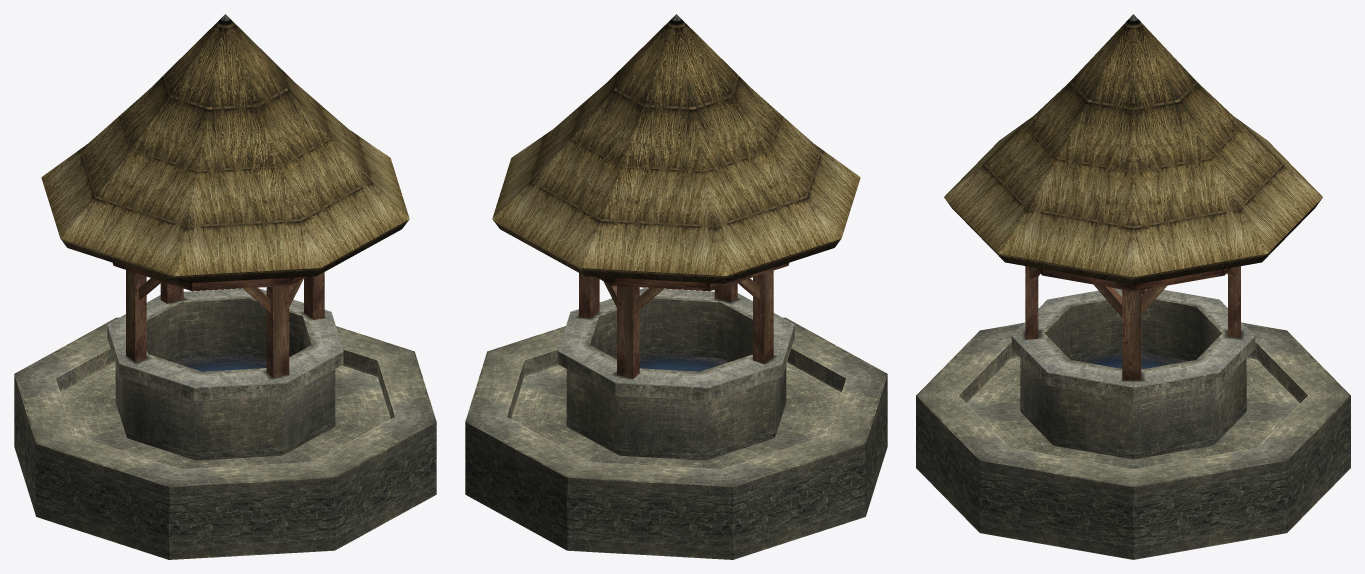
Rendered from fortms_build_well.fbx.
The picture shows the model from 3 angles, left to right: view 1: azimuth 30°, elevation 25°; view 2: azimuth 150°, elevation 25°; view 3: azimuth 270°, elevation 25°; orthographic projection.
Parts seen in each view (by area): view 1: fortMS_build_well; view 2: fortMS_build_well; view 3: fortMS_build_well.
Boxes of the visible parts, x1=… form: fortMS_build_well: x1=14, y1=14, x2=436, y2=559; fortMS_build_well: x1=465, y1=14, x2=887, y2=559; fortMS_build_well: x1=916, y1=14, x2=1350, y2=559.
Bounding box in the file's own units: 6.88 × 7.93 × 6.88.
